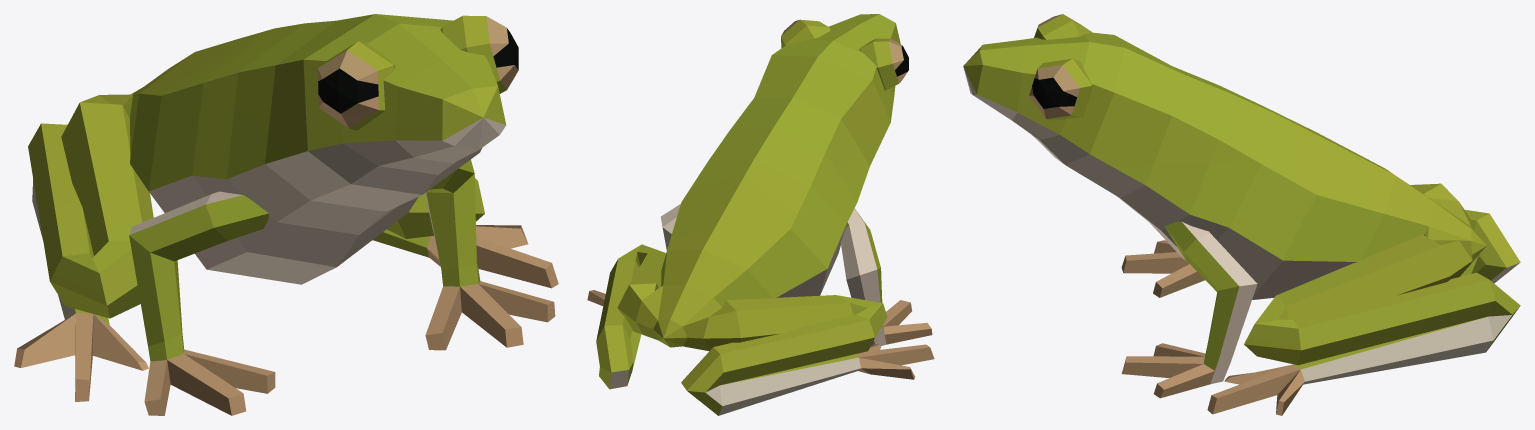
Rendered from cwyNyIba6WE.glb.
3 views of the same model, side by side, from view 1: azimuth 30°, elevation 25°; view 2: azimuth 150°, elevation 25°; view 3: azimuth 270°, elevation 25° (orthographic). The views are drawn at different scales.
Parts seen in each view (by area): view 1: Geo_Frog; view 2: Geo_Frog; view 3: Geo_Frog.
Boxes of the visible parts, x1,y1,x2,y2 form: Geo_Frog: (14, 14, 558, 415); Geo_Frog: (587, 14, 934, 415); Geo_Frog: (963, 14, 1520, 415).
Size of the model in its own units: 1.4 by 1 by 1.76.
1 material, 1 textured.
